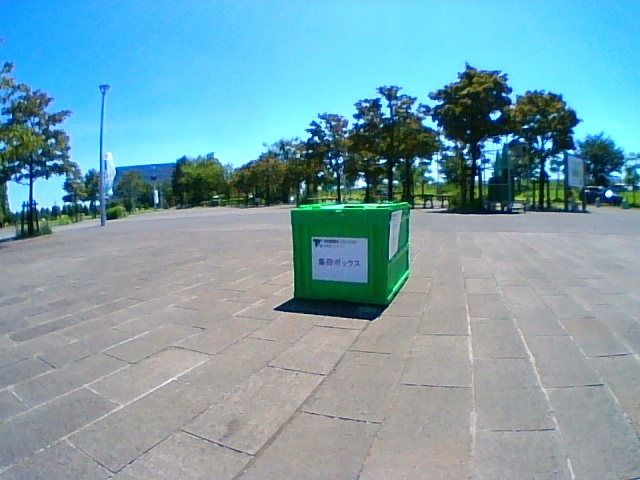green_box: (292, 203, 409, 307)
tag: (390, 211, 398, 256)
